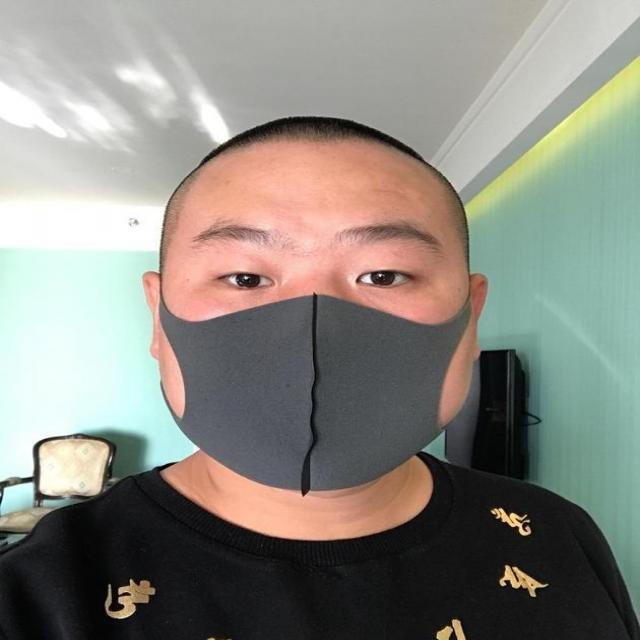mask: (159, 137, 463, 484)
